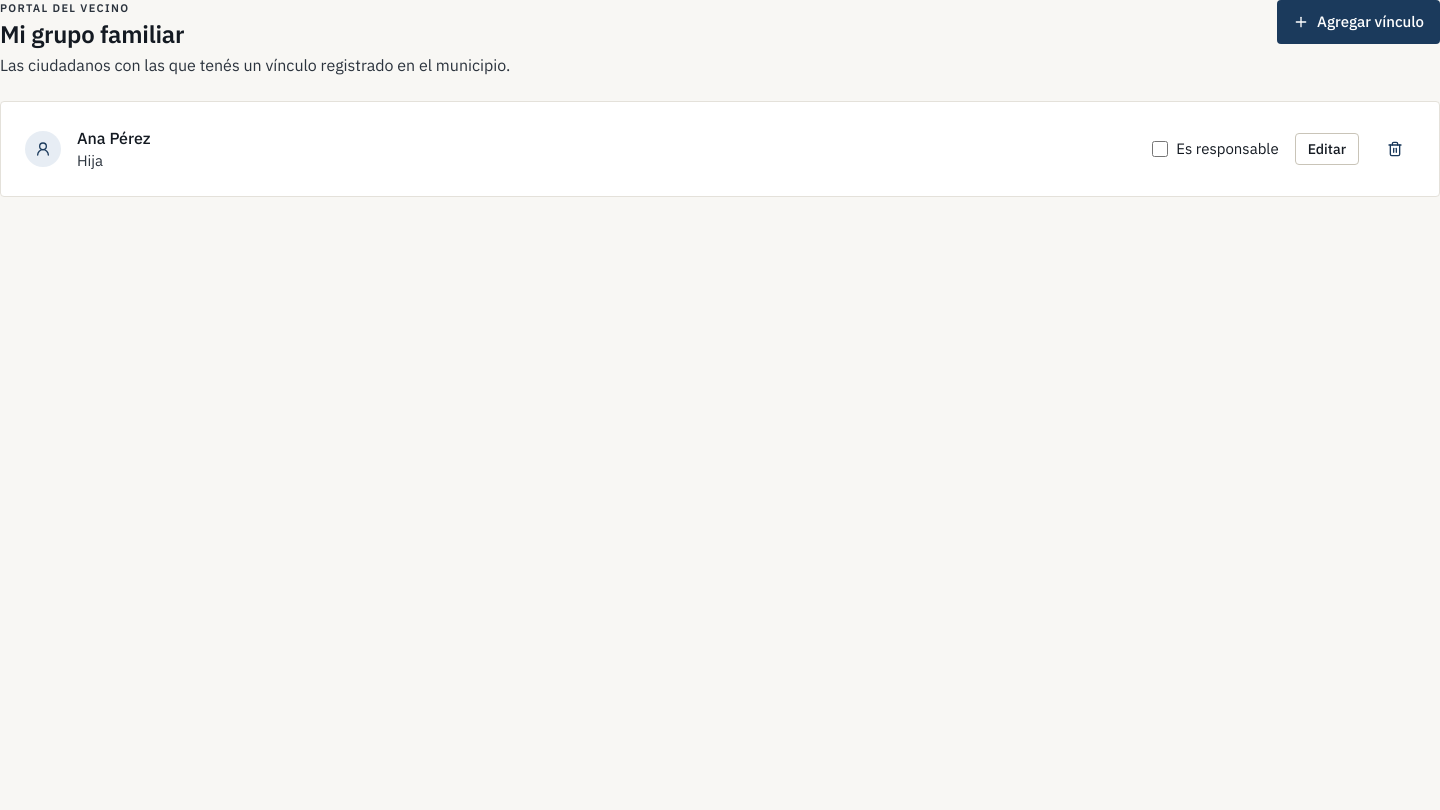
it: alta: buscar a la otra ciudadano › valida el DNI antes de consultar
Click the button "Agregar vínculo" at (1359, 22), box [1277,0,1439,44]
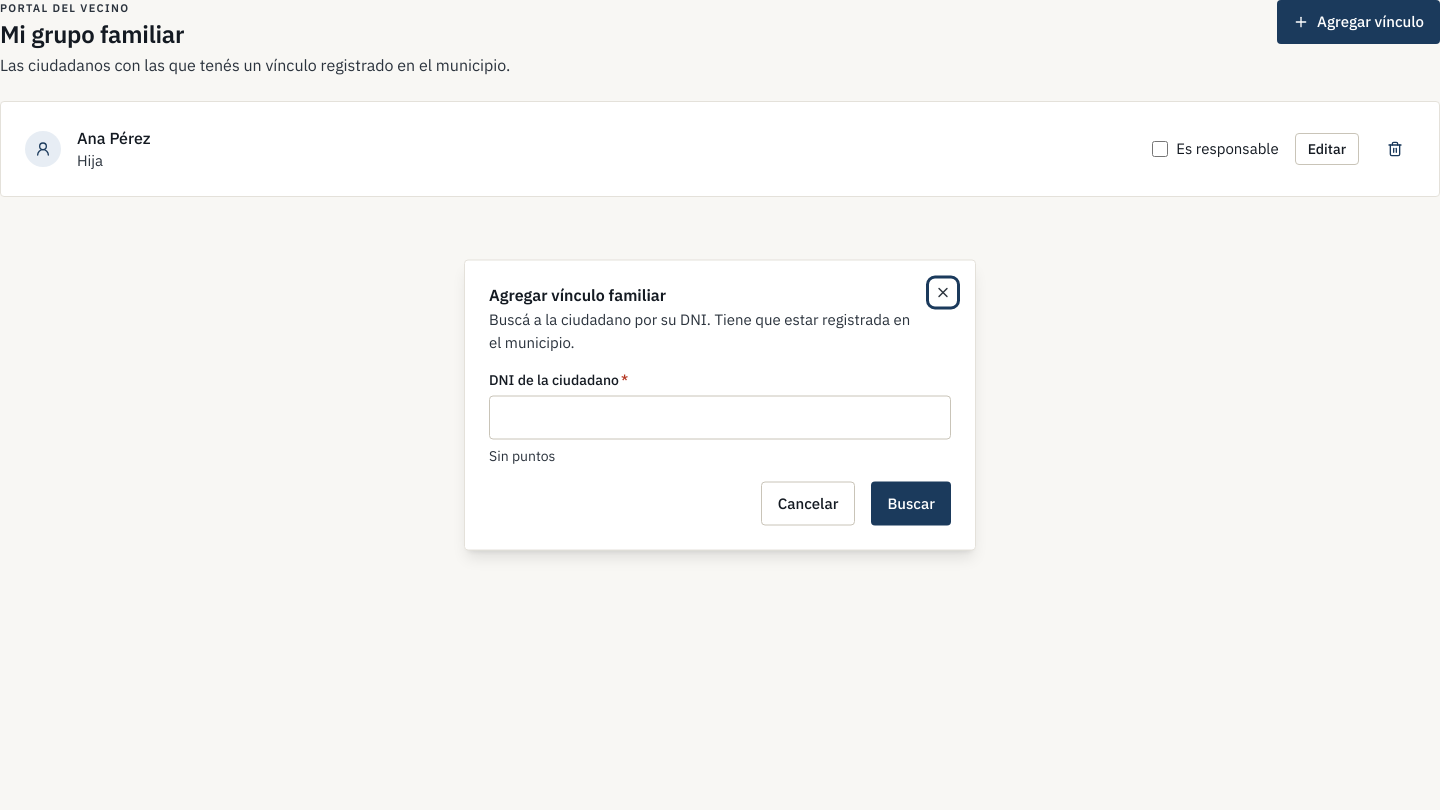
Type "123" into the field labelled "DNI de la ciudadano" at (720, 418), box [489,396,951,440]
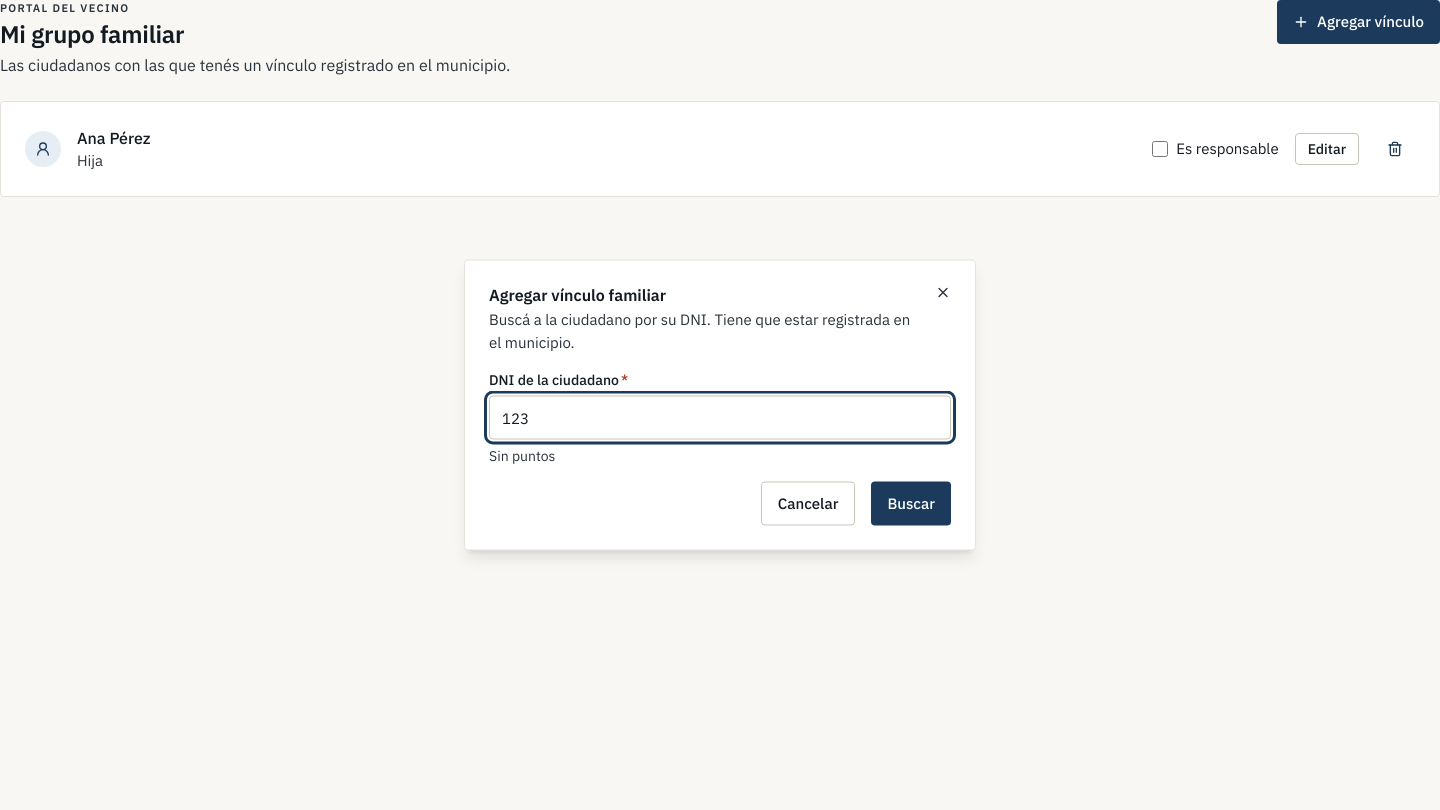
Click the button "Buscar" at (911, 504), box [871,482,951,526]
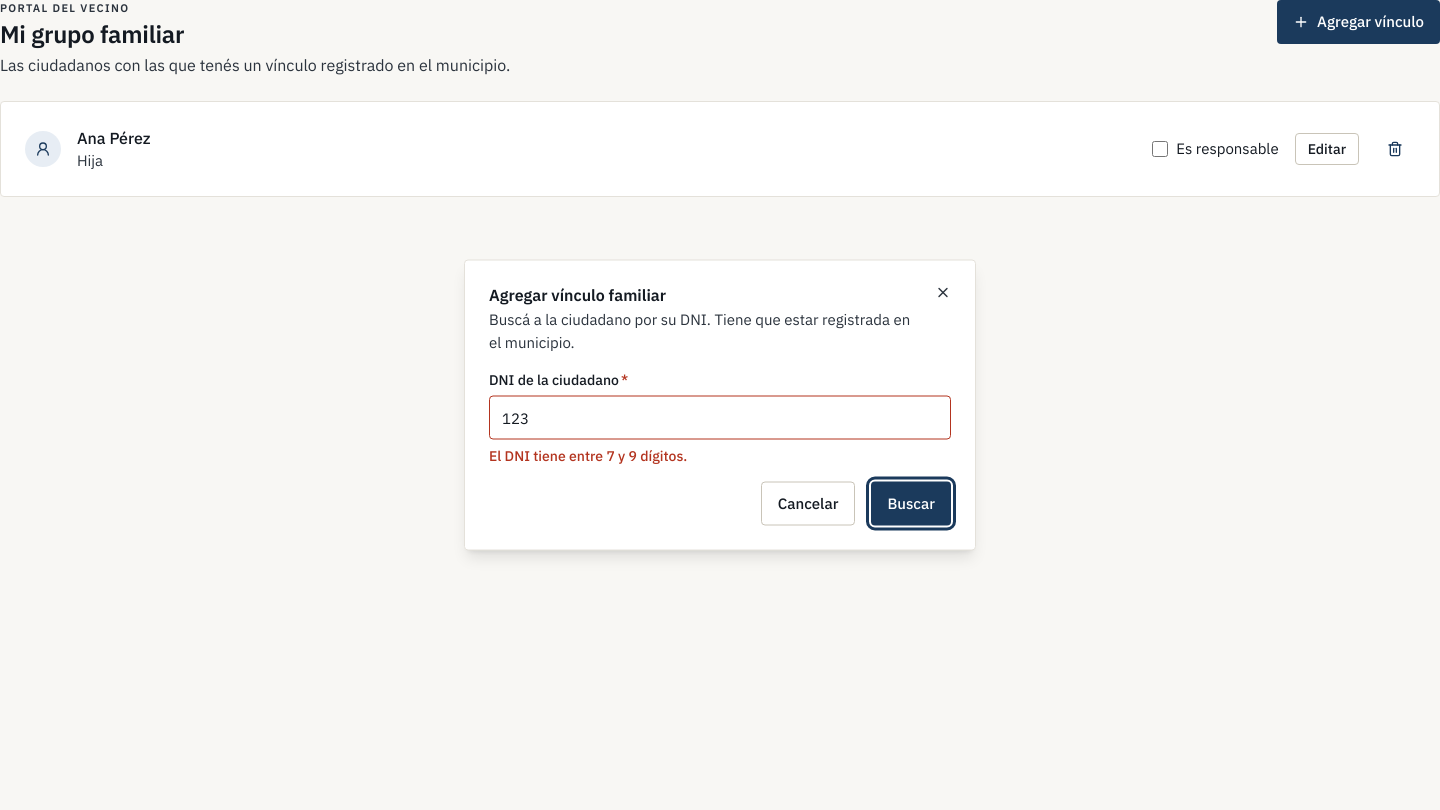
expect the text "El DNI tiene entre 7 y 9 dígitos." is shown: met, box [489,446,687,464]
